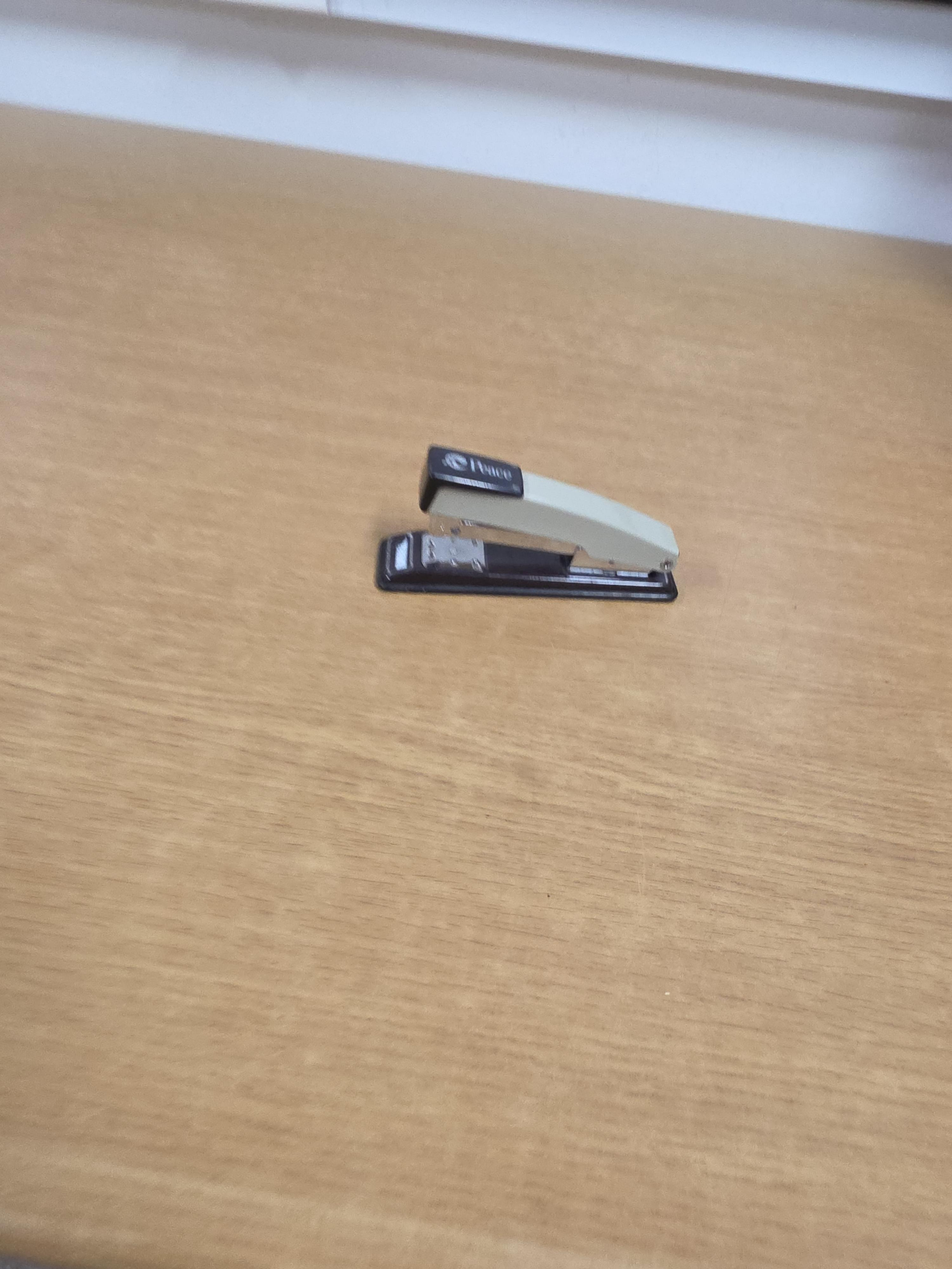stapler: (377, 445, 680, 603)
